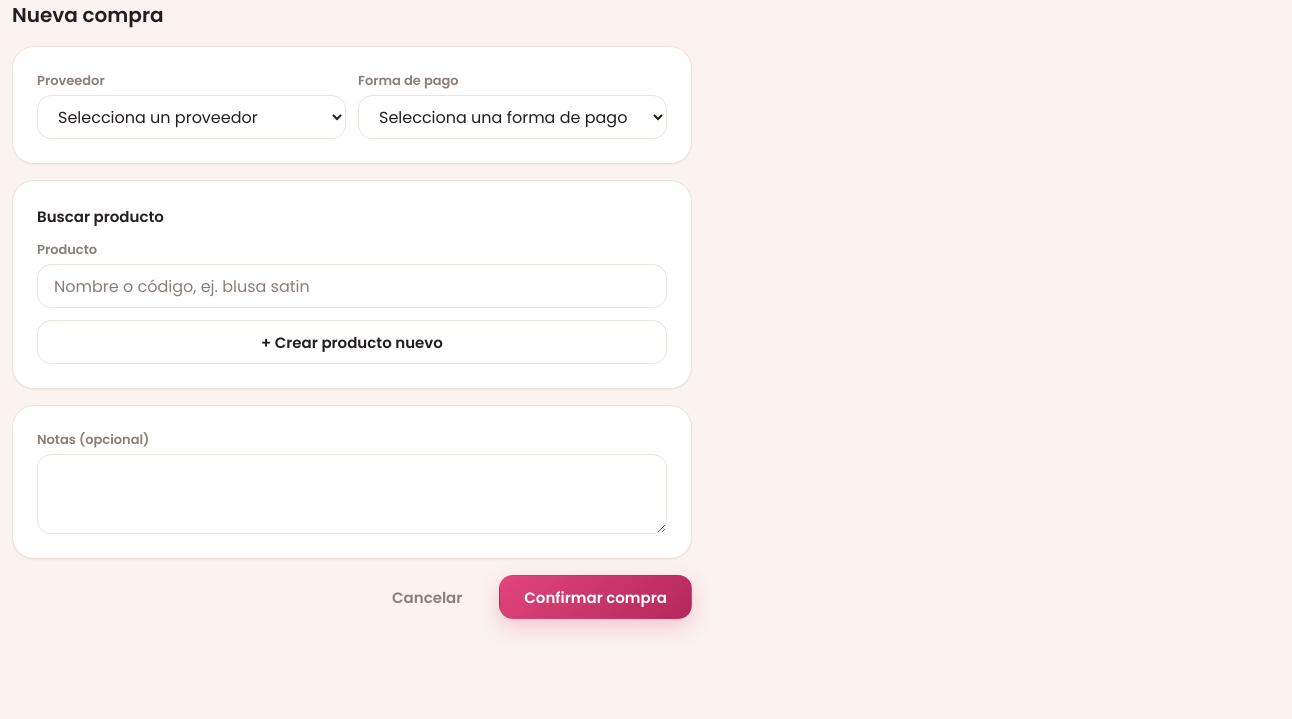
Test: PurchaseFormPage › crea un producto nuevo inline y lo selecciona automáticamente
The width and height of the screenshot is (1292, 719).
Click the button "+ Crear producto nuevo": [352, 342] box x1=37 y1=320 x2=667 y2=364
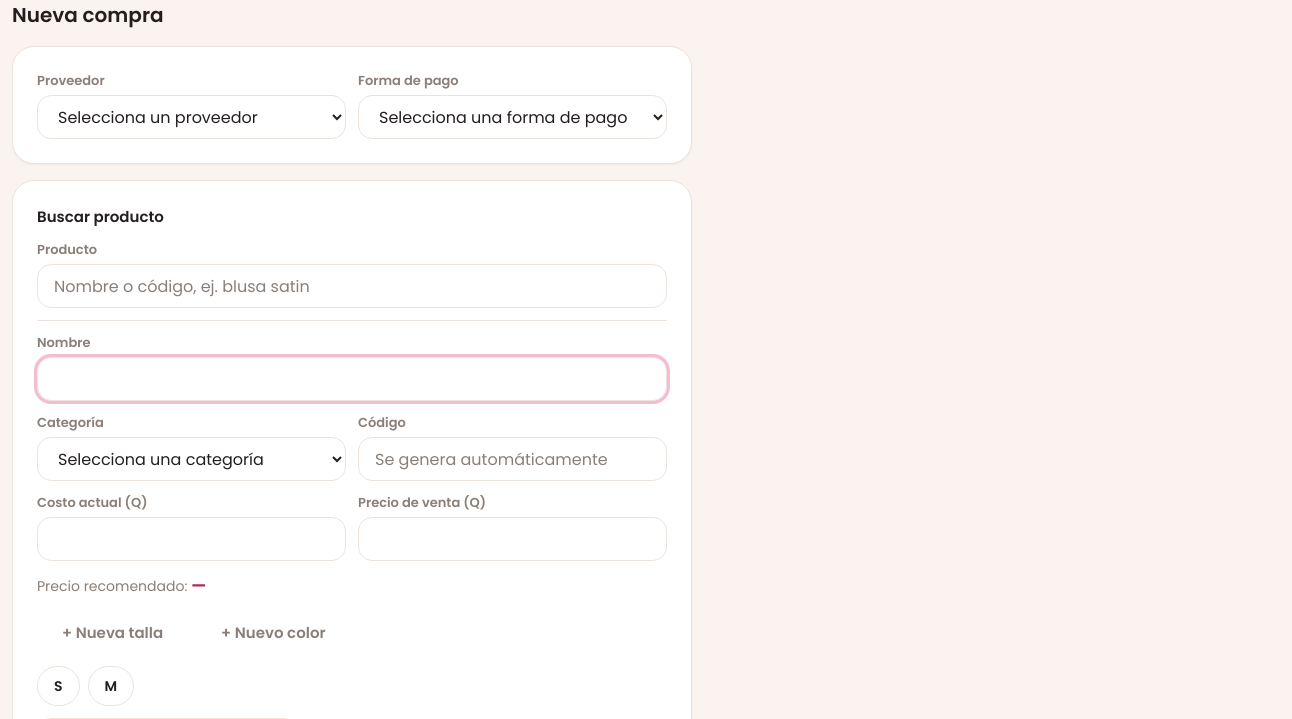
In the field labelled "Nombre": [352, 379] box x1=37 y1=357 x2=667 y2=401, type "Blusa Satinada"
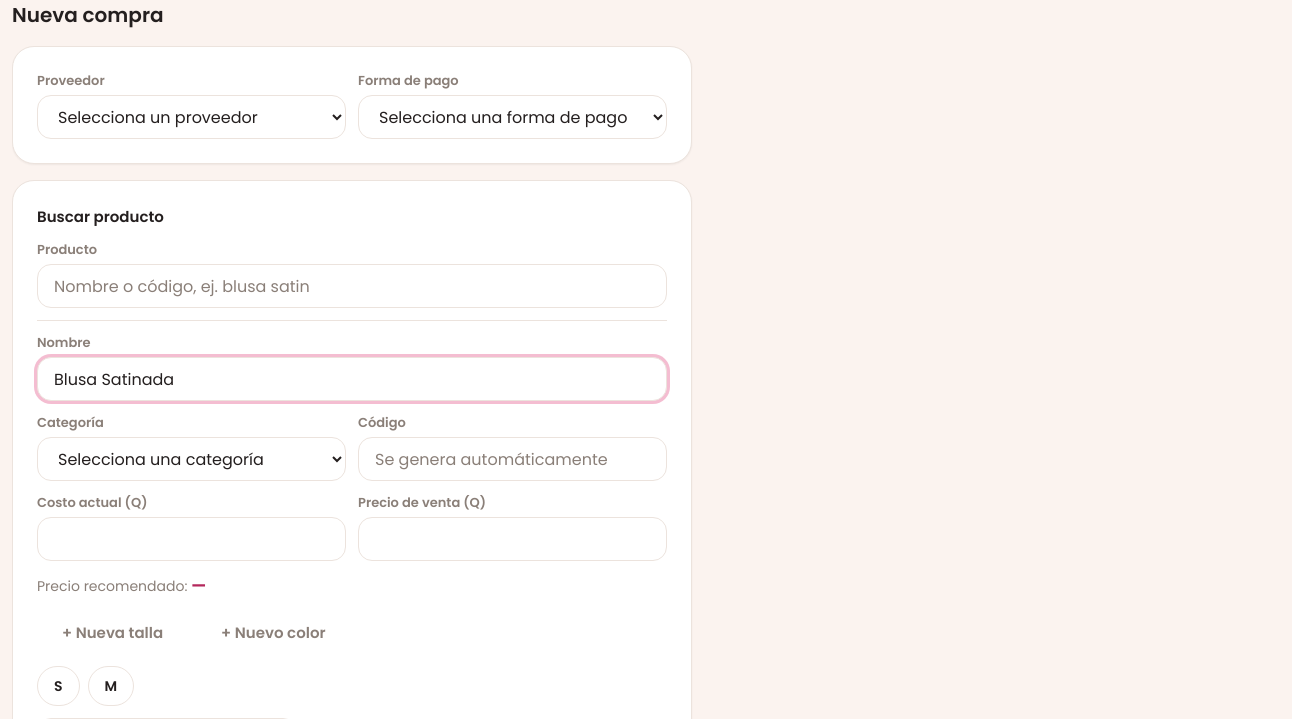
Select "Blusas" in the dropdown labelled "Categoría": [192, 459] box x1=37 y1=437 x2=346 y2=481
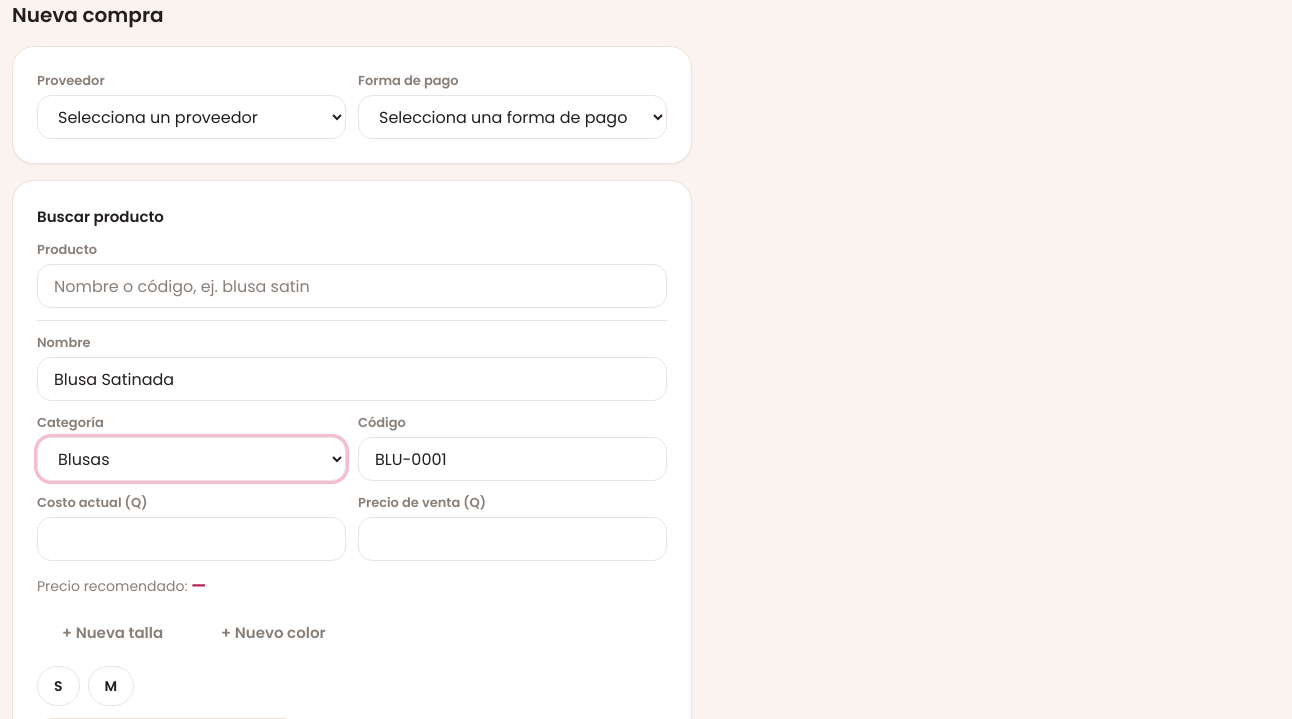
Click the button "S": [58, 686] box x1=37 y1=666 x2=80 y2=706
(page scrolled)
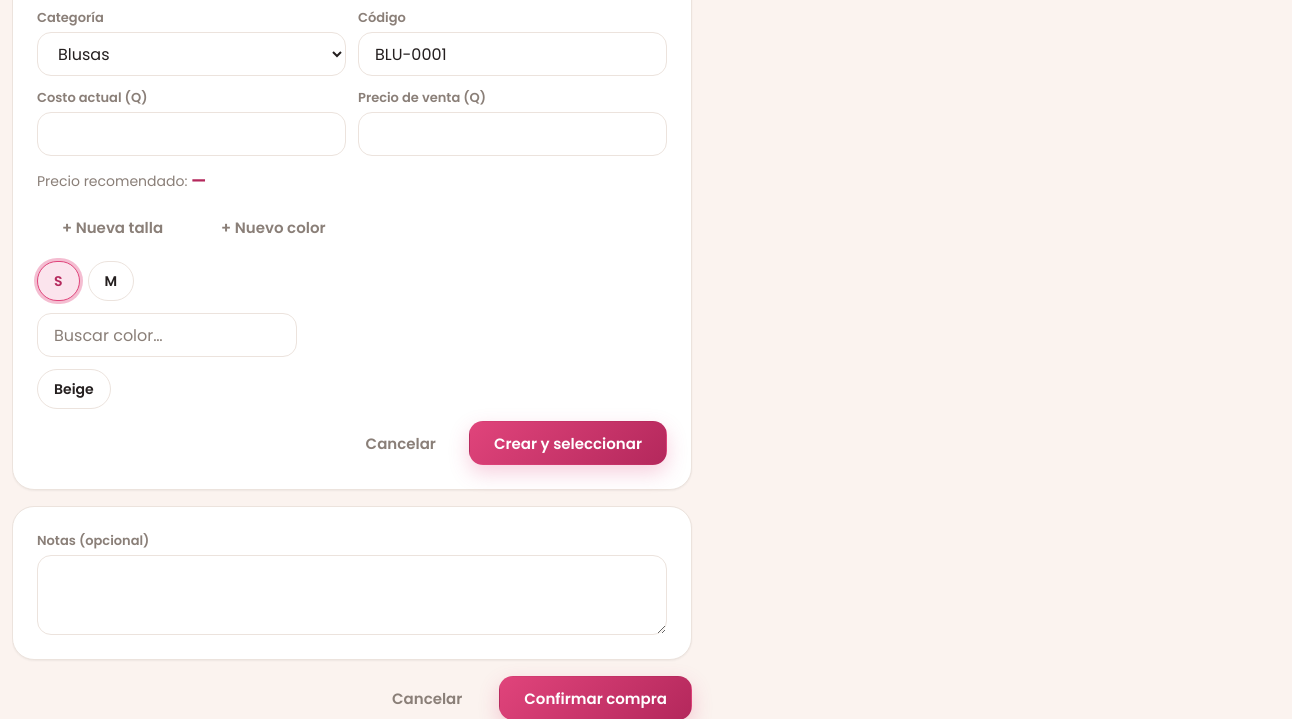
Click the button "Beige": [74, 389] box x1=37 y1=369 x2=111 y2=409
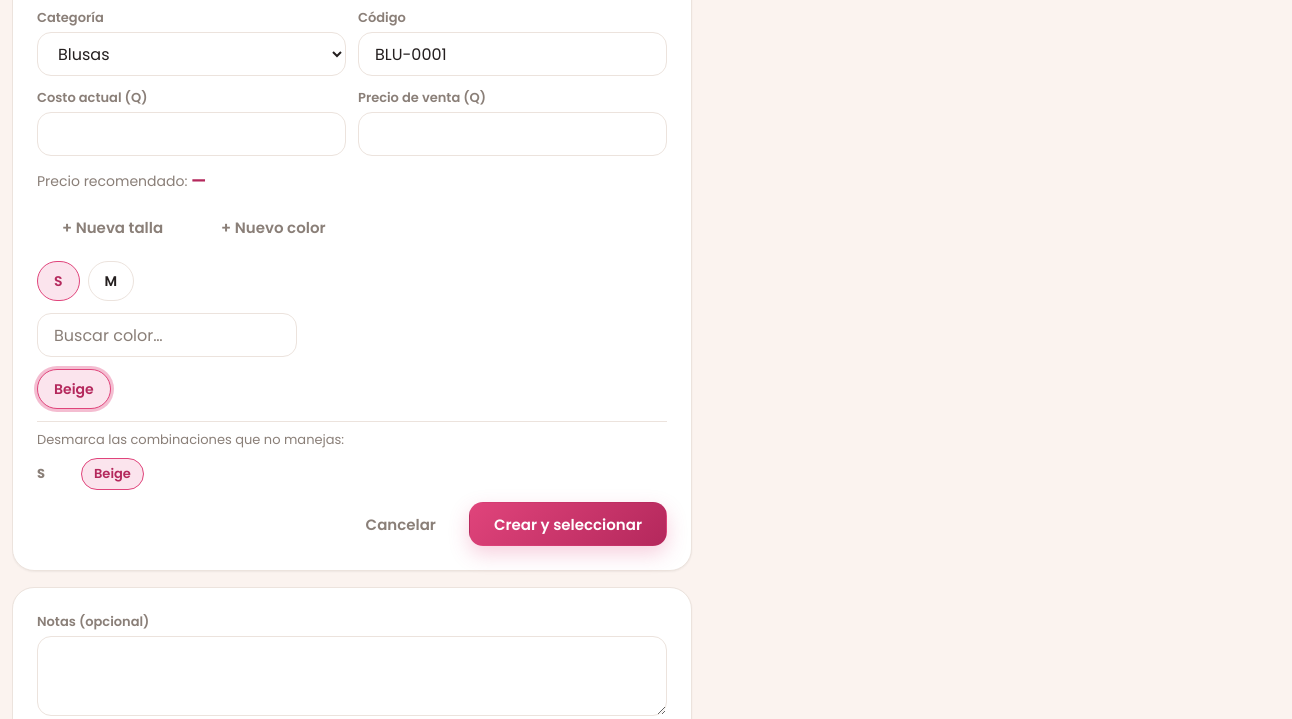
Click the button "Crear y seleccionar": [568, 524] box x1=469 y1=502 x2=667 y2=546
(page scrolled)
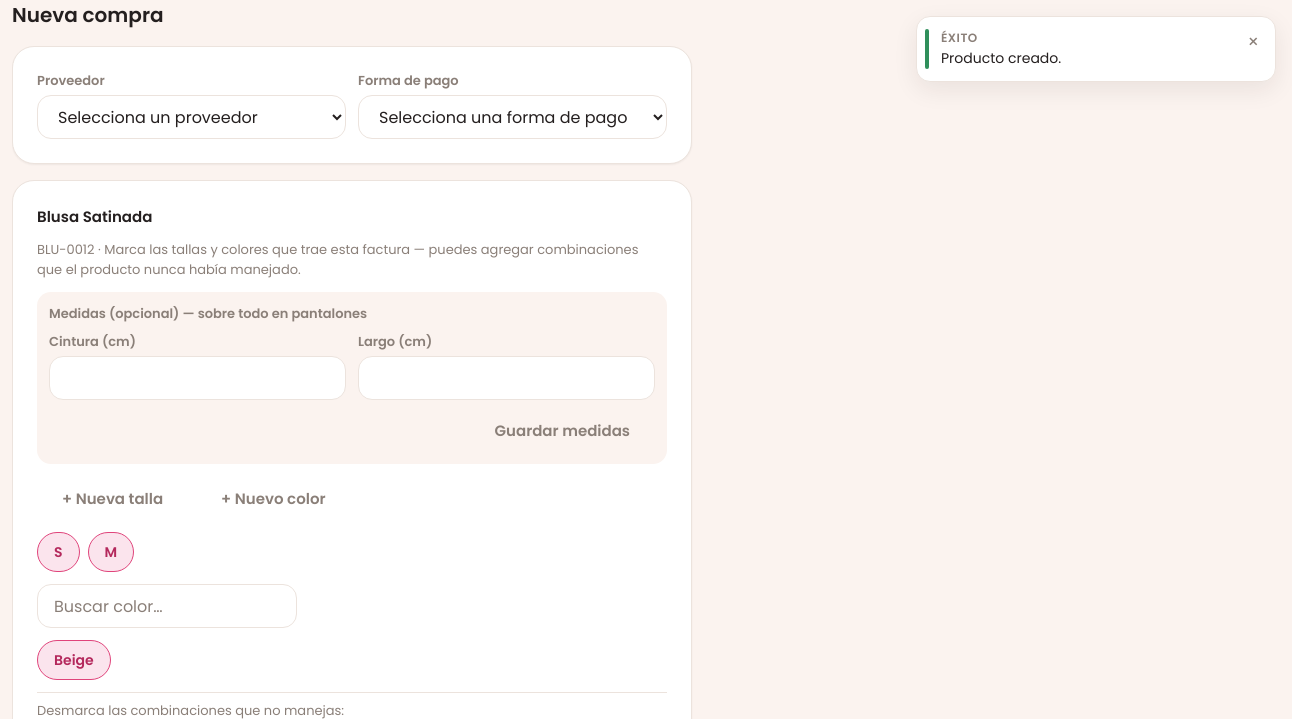
expect the text "BLU-0012 · Marca las tallas y colores que trae esta factura — puedes agregar combinaciones que el producto nunca había m" is shown: met, box x1=37 y1=240 x2=667 y2=280
